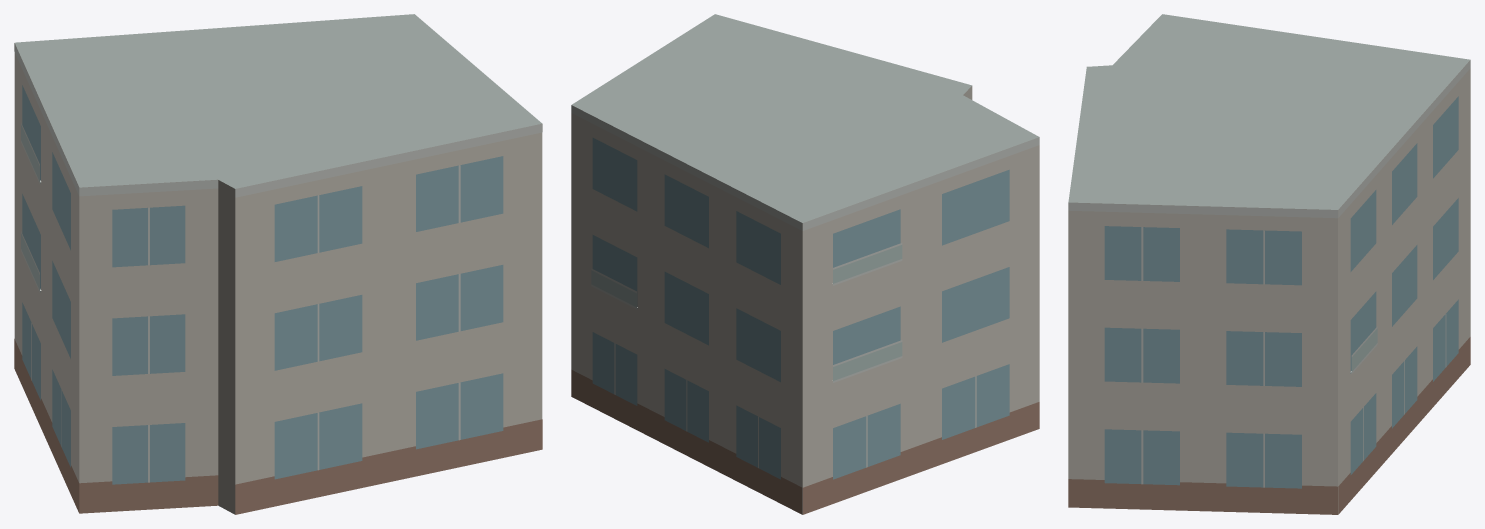
The model's file is survey-upis-32491960.glb.
3 renders of one model, left to right at view 1: azimuth 30°, elevation 25°; view 2: azimuth 150°, elevation 25°; view 3: azimuth 270°, elevation 25°, orthographic. The views are drawn at different scales.
Parts seen in each view (by area): view 1: survey-upis-32491960.tmp; view 2: survey-upis-32491960.tmp; view 3: survey-upis-32491960.tmp.
Boxes of the visible parts, x1,y1,x2,y2 form: survey-upis-32491960.tmp: [14, 14, 542, 514]; survey-upis-32491960.tmp: [571, 14, 1039, 514]; survey-upis-32491960.tmp: [1068, 14, 1470, 514].
Bounding box in the file's own units: 12.42 × 9 × 10.77.
